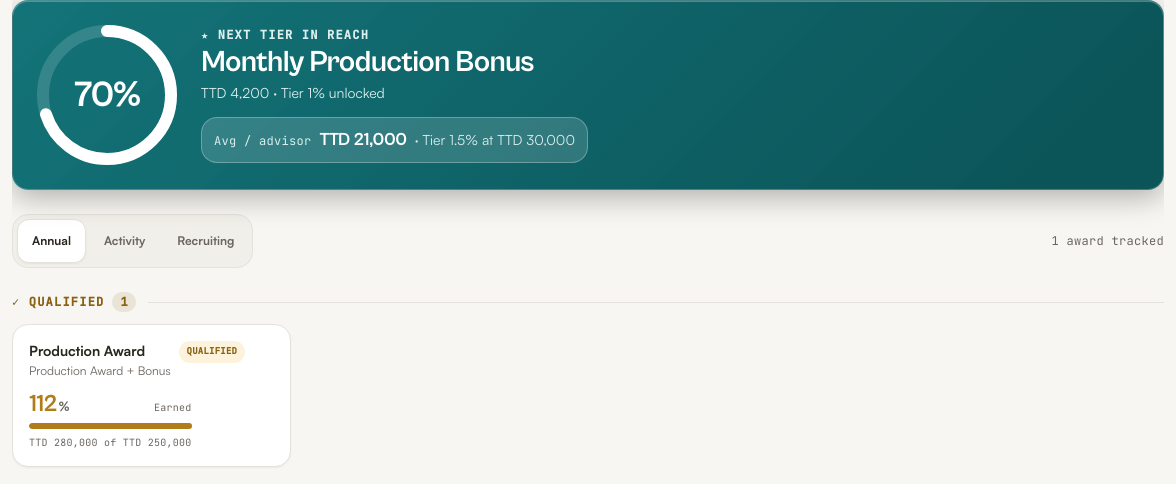
Test case: ManagerAwardsPanel — category tabs › switches to Recruiting tab and renders the recruit-id awards
Step 1. Click the tab "Recruiting" → click(206, 241), box [163,219,248,263]
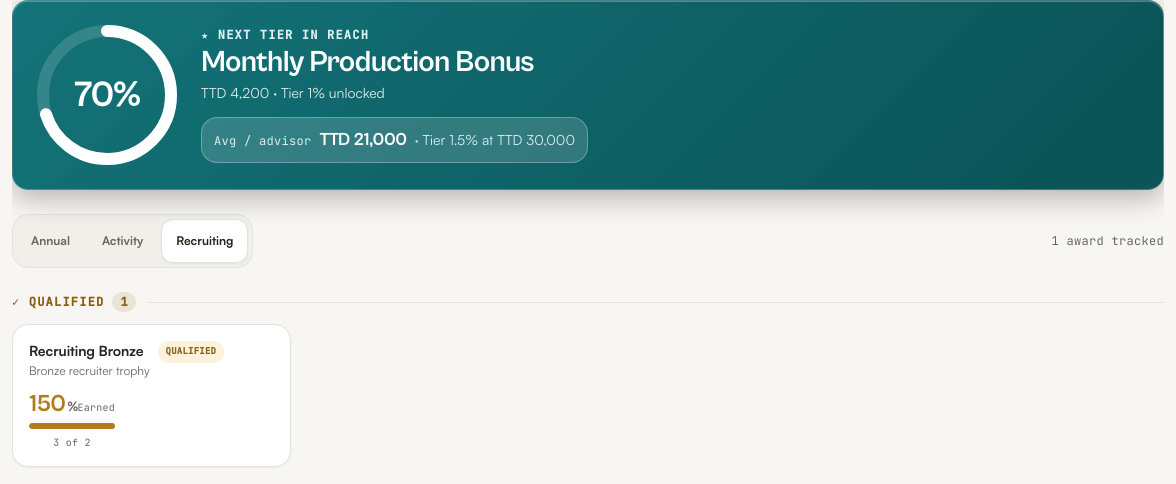
Expected: the text "Recruiting Bronze" is shown, [29,341,150,361]
Expected: the button "Production Award" is gone
